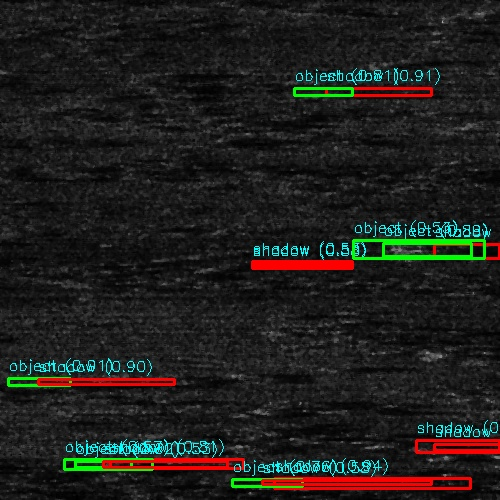rock: (359, 242, 464, 261), (82, 461, 155, 468), (223, 480, 296, 487), (0, 381, 63, 386), (303, 89, 356, 94), (471, 453, 500, 458)
shadow: (412, 242, 500, 261), (260, 480, 432, 487), (119, 461, 251, 468), (32, 381, 178, 386), (330, 89, 430, 94)
